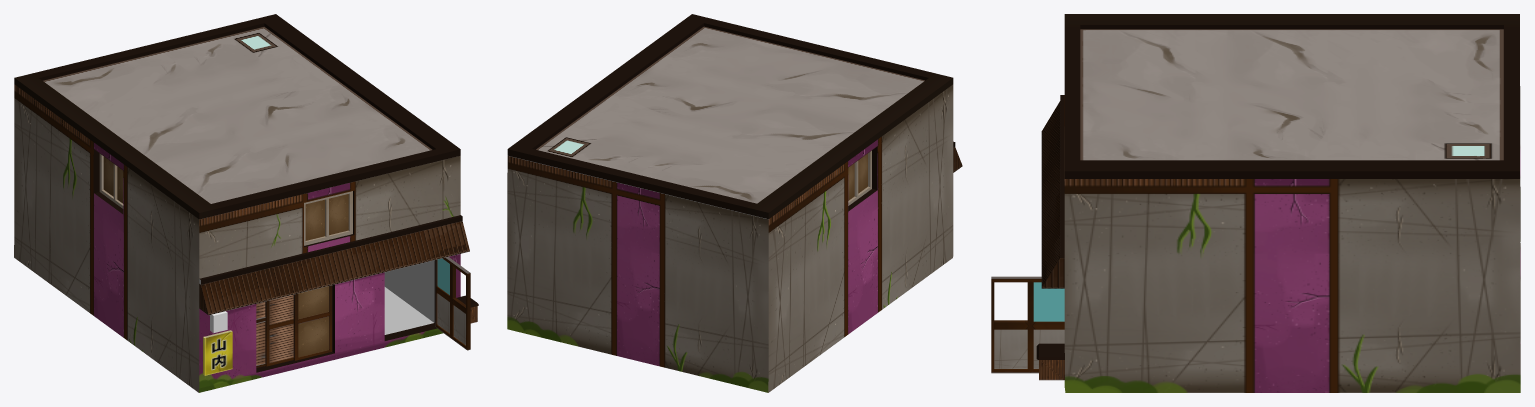
File: House_Yamauchi.fbx
3 views of the same model, side by side, from view 1: azimuth 30°, elevation 25°; view 2: azimuth 150°, elevation 25°; view 3: azimuth 270°, elevation 25° (orthographic). The views are drawn at different scales.
Visible parts, largest first — view 1: Cube.166, Cube.174, Cube.176, Cube.178, Cube.175, Cube.169, Cube.177, Cube.165; view 2: Cube.166, Cube.177; view 3: Cube.166, Cube.176, Cube.172.
Boxes of the visible parts, x1,y1,x2,y2 form: Cube.166: (14, 14, 469, 392); Cube.174: (293, 285, 332, 360); Cube.176: (435, 257, 470, 350); Cube.178: (304, 191, 352, 245); Cube.175: (265, 294, 293, 366); Cube.169: (203, 330, 232, 375); Cube.177: (99, 153, 123, 208); Cube.165: (256, 301, 265, 367); Cube.166: (507, 14, 962, 392); Cube.177: (848, 150, 871, 205); Cube.166: (1041, 14, 1520, 392); Cube.176: (991, 276, 1064, 373); Cube.172: (1036, 343, 1064, 380).
Size of the model in its own units: 893 by 571 by 1234.
